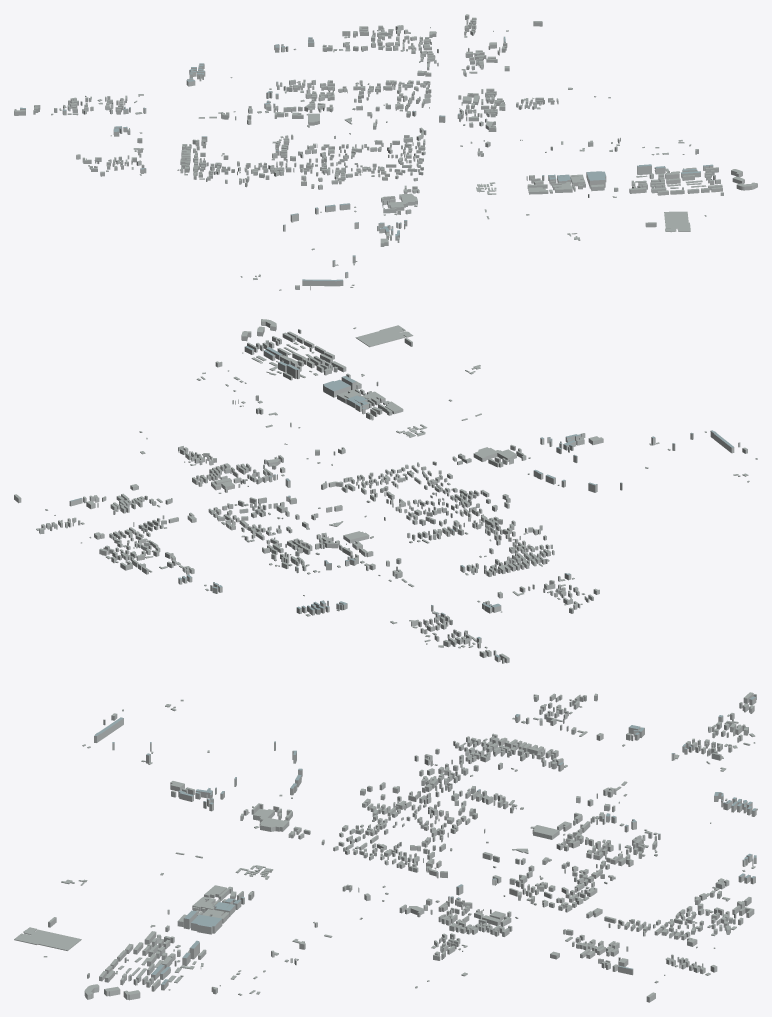
File: far.glb
3 renders of one model, top to bottom at view 1: azimuth 30°, elevation 25°; view 2: azimuth 150°, elevation 25°; view 3: azimuth 270°, elevation 25°, orthographic. The views are drawn at different scales.
Bounding box in the file's own units: 2102 × 34.45 × 2167.
